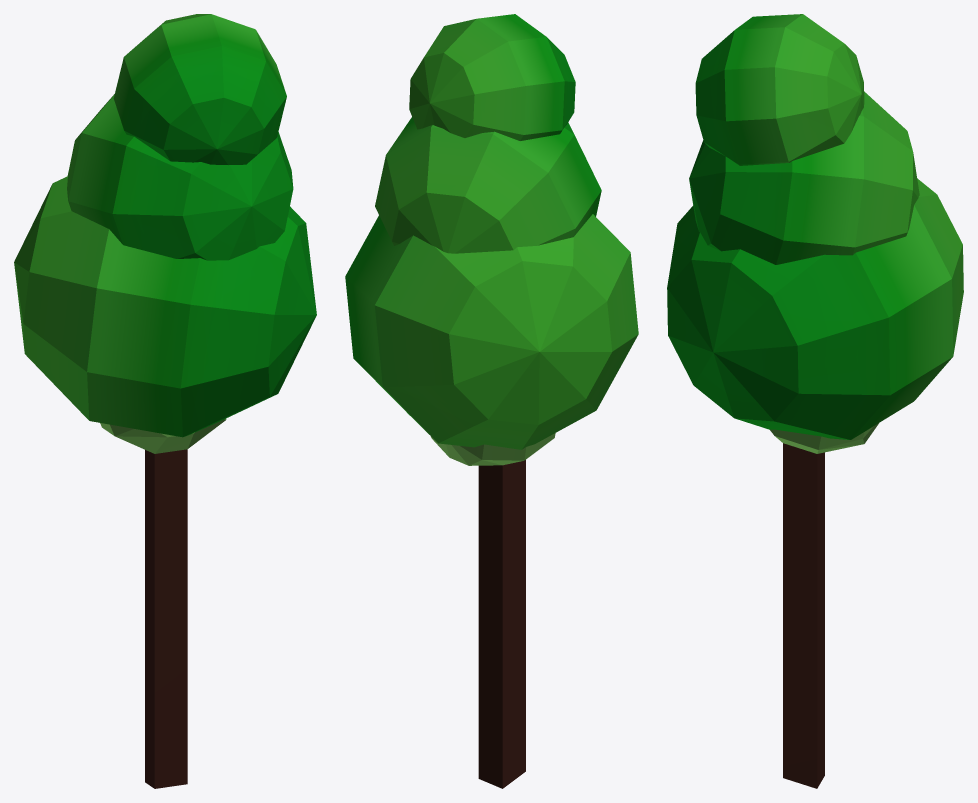
Rendered from Arbol.obj.
3 views of the same model, side by side, from view 1: azimuth 30°, elevation 25°; view 2: azimuth 150°, elevation 25°; view 3: azimuth 270°, elevation 25° (orthographic). The views are drawn at different scales.
Visible parts, largest first — view 1: Arbol; view 2: Arbol; view 3: Arbol.
Part boxes in pixels (bbox=[...]): Arbol: bbox=[14, 14, 316, 788]; Arbol: bbox=[345, 14, 638, 788]; Arbol: bbox=[667, 14, 963, 788].
Bounding box in the file's own units: 1.25 × 3.47 × 1.21.
1 material, 1 textured.
